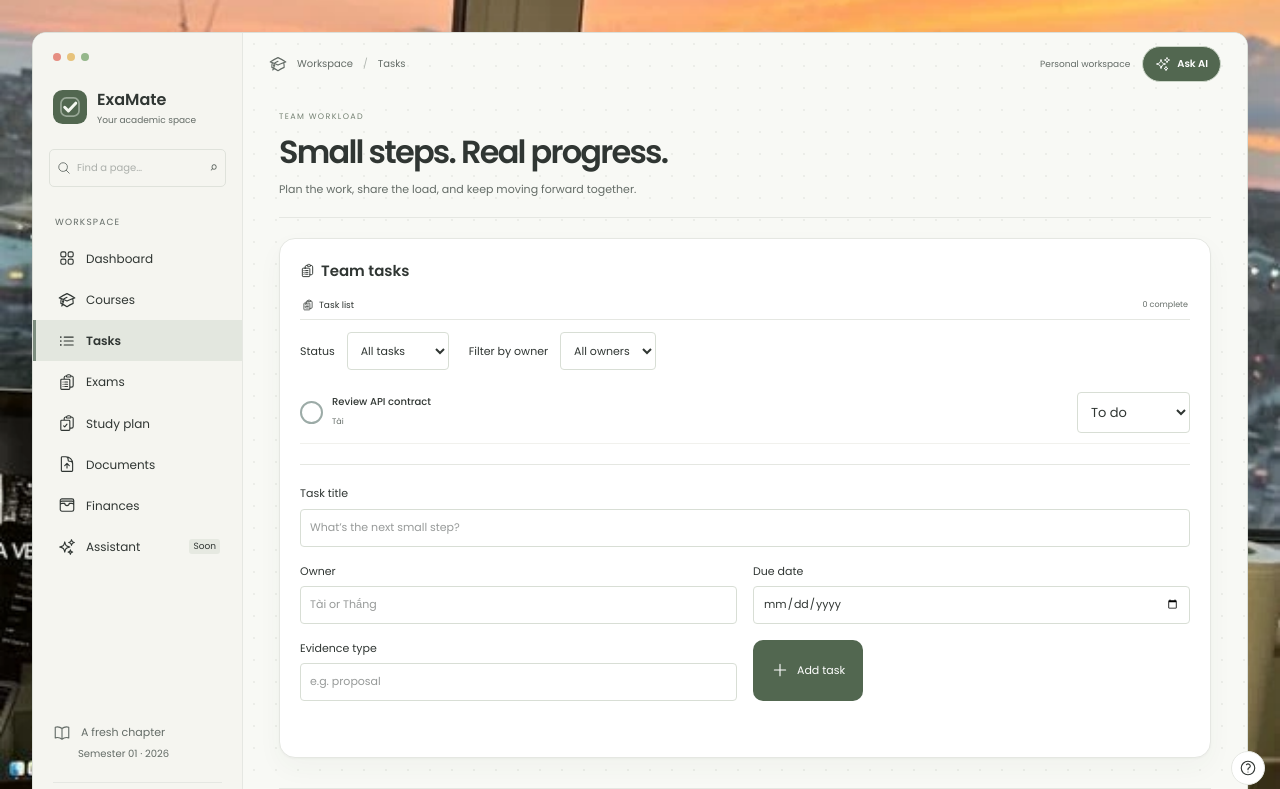
Test: Academic workspace › filters tasks by owner and shows an empty state when none match
expect the text "Review API contract" is shown: met, box [332,394,431,410]
Select "Tài" in the dropdown labelled "Owner filter": point(608, 351) [560,332,656,370]
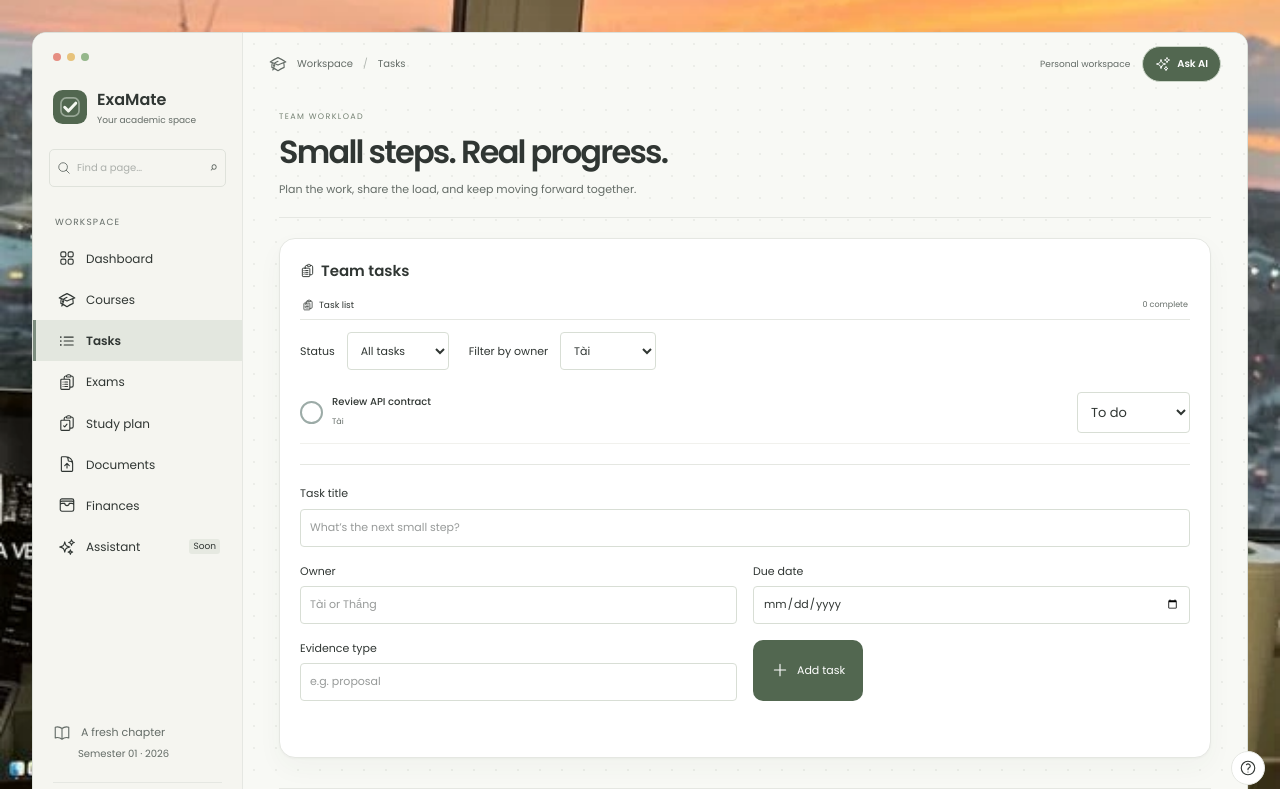
expect the text "Review API contract" is shown: met, box [332,394,431,410]
Select "Thắng" in the dropdown labelled "Owner filter": point(608, 351) [560,332,656,370]
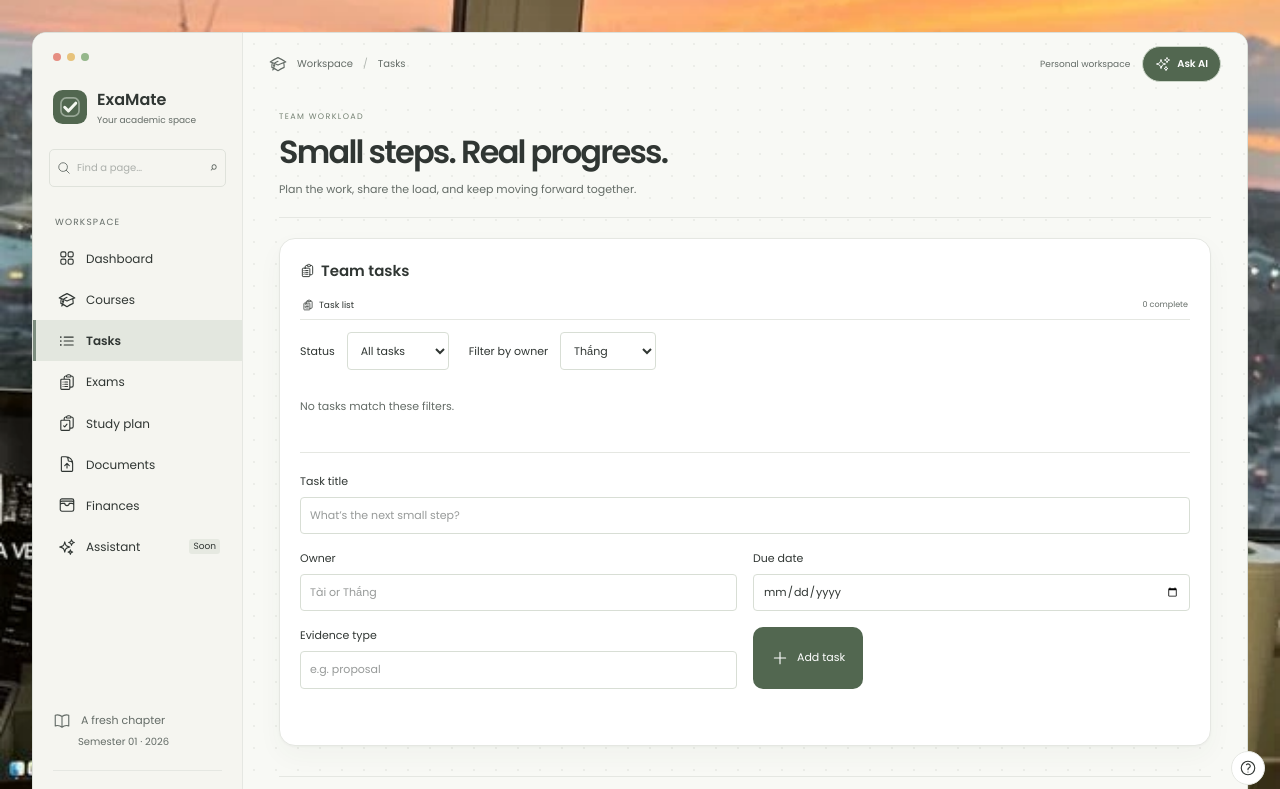
expect the text "Review API contract" is gone: met
expect the text "No tasks match these filters." is shown: met, box [300,398,454,414]
